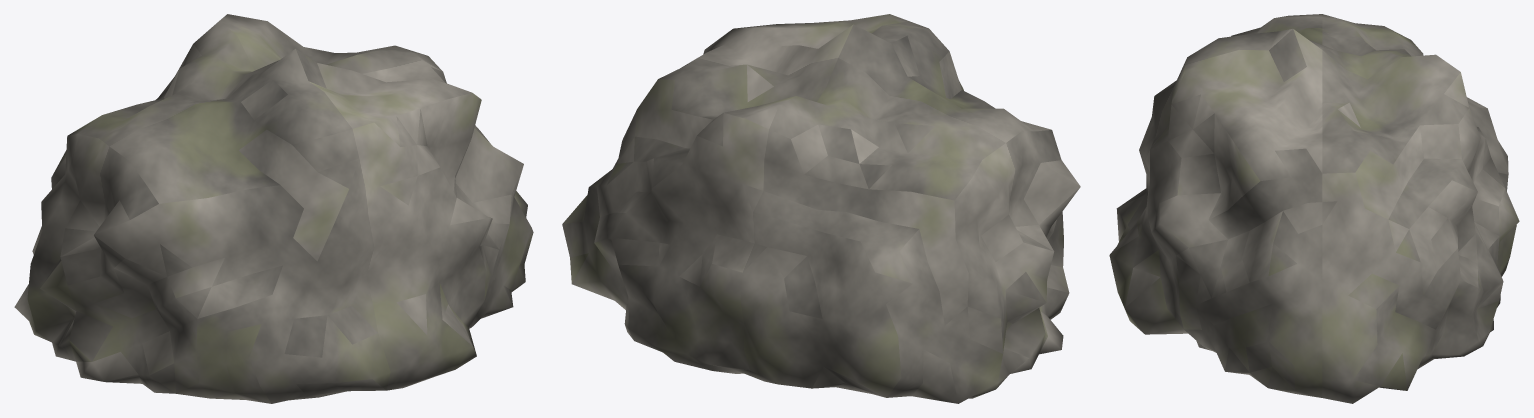
File: Rock_Water_2.gltf
3 renders of one model, left to right at view 1: azimuth 30°, elevation 25°; view 2: azimuth 150°, elevation 25°; view 3: azimuth 270°, elevation 25°, orthographic. The views are drawn at different scales.
Parts seen in each view (by area): view 1: Rock_Water_2; view 2: Rock_Water_2; view 3: Rock_Water_2.
Boxes of the visible parts, x1,y1,x2,y2 form: Rock_Water_2: (14,14,533,403); Rock_Water_2: (562,14,1080,403); Rock_Water_2: (1109,14,1519,403).
Size of the model in its own units: 3 by 1.75 by 2.31.
1 material, 1 textured.
